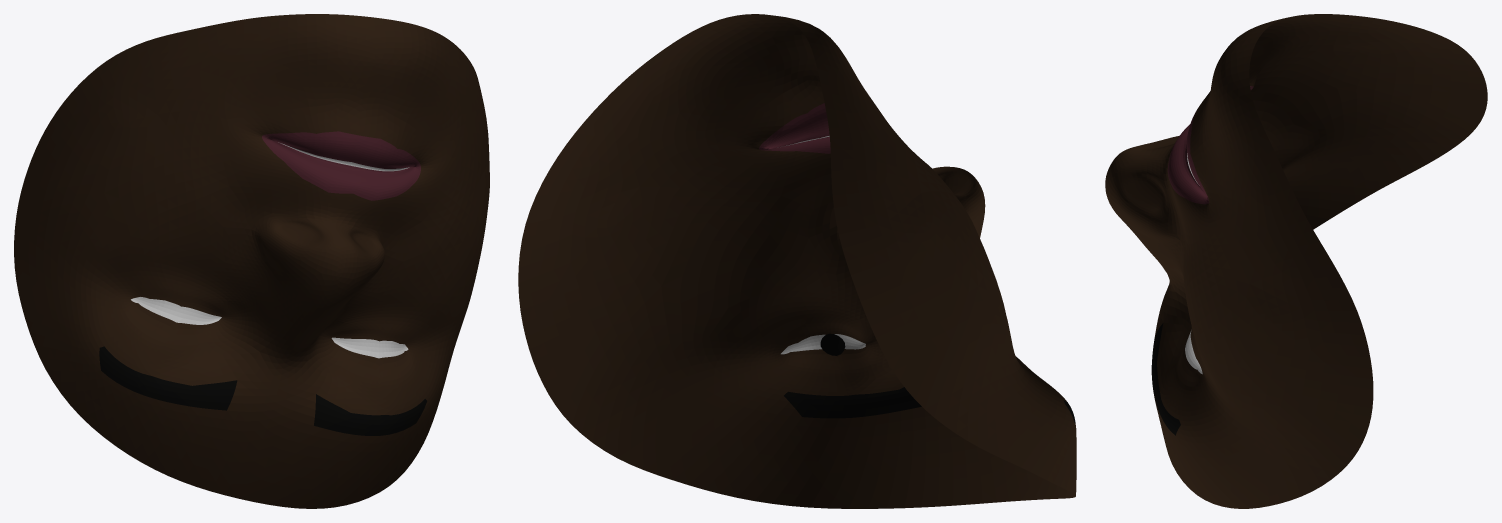
Rendered from frame_00239.obj.
3 renders of one model, left to right at view 1: azimuth 30°, elevation 25°; view 2: azimuth 150°, elevation 25°; view 3: azimuth 270°, elevation 25°, orthographic. The views are drawn at different scales.
Parts seen in each view (by area): view 1: face_mesh_subdivided; view 2: face_mesh_subdivided; view 3: face_mesh_subdivided.
Part boxes in pixels (x1,y1,x2,y2): face_mesh_subdivided: (14, 14, 489, 508); face_mesh_subdivided: (518, 14, 1076, 508); face_mesh_subdivided: (1105, 14, 1487, 508).
Bounding box in the file's own units: 0.568 × 0.5493 × 0.4155.
